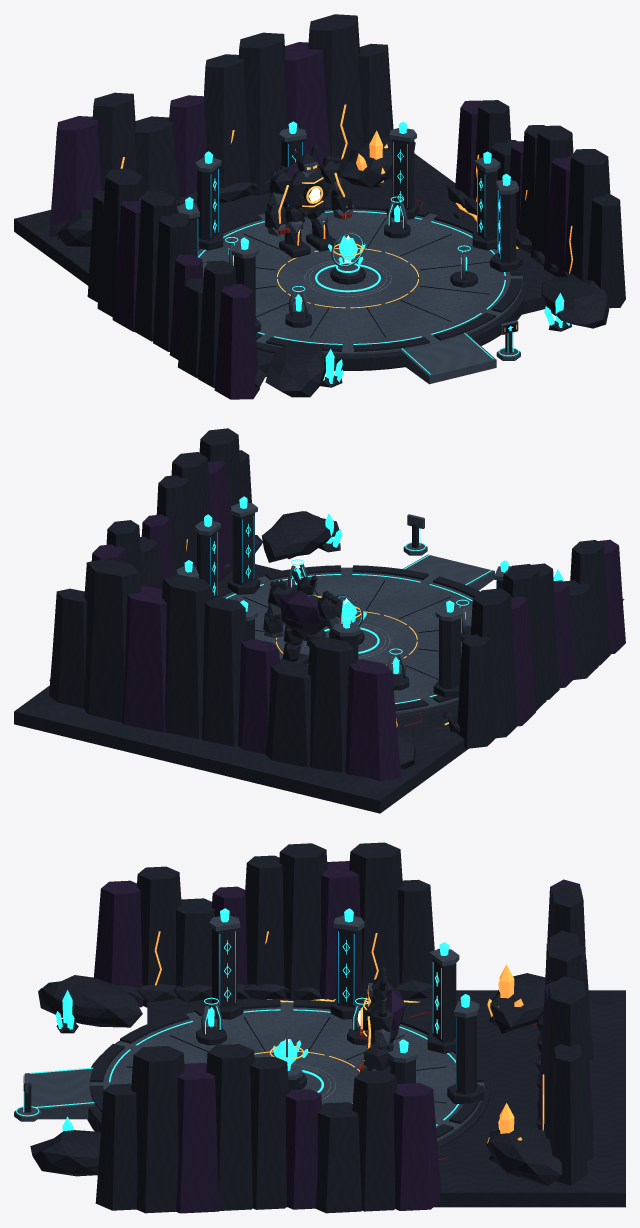
The model's file is 03_Arena_Layout.fbx.
3 views of the same model, one above another, from view 1: azimuth 30°, elevation 25°; view 2: azimuth 150°, elevation 25°; view 3: azimuth 270°, elevation 25° (orthographic). The views are drawn at different scales.
Visible parts, largest first — view 1: CanyonWall_12m_Placed.010, ArenaPlatform_Placed, CanyonWall_12m_Placed.008, CanyonWall_12m_Placed.009, VolcanicGround_24m_Placed.003, Boss_StarcoreGuardian_Placed, BasaltRock_B_Placed.008, BasaltRock_B_Placed.010, AlienPillar_Placed.001, AlienPillar_Placed.003, AlienPillar_Placed, AlienPillar_Placed.006 (+12 smaller); view 2: CanyonWall_12m_Placed.010, CanyonWall_12m_Placed.008, ArenaPlatform_Placed, VolcanicGround_24m_Placed.003, CanyonWall_12m_Placed.009, Boss_StarcoreGuardian_Placed, BasaltRock_B_Placed.010, AlienPillar_Placed.006, AlienPillar_Placed.004, AlienPillar_Placed, MissionBeacon_Placed.006, AlienPillar_Placed.003 (+3 smaller); view 3: CanyonWall_12m_Placed.009, CanyonWall_12m_Placed.008, VolcanicGround_24m_Placed.003, ArenaPlatform_Placed, CanyonWall_12m_Placed.010, BasaltRock_B_Placed.008, Boss_StarcoreGuardian_Placed, BasaltRock_B_Placed.011, AlienPillar_Placed.005, AlienPillar_Placed.004, AlienPillar_Placed.003, BasaltRock_B_Placed.010 (+8 smaller).
Boxes of the visible parts, x1,y1,x2,y2 form: CanyonWall_12m_Placed.010: (49, 14, 393, 239); ArenaPlatform_Placed: (198, 202, 528, 384); CanyonWall_12m_Placed.008: (87, 168, 266, 399); CanyonWall_12m_Placed.009: (447, 100, 625, 308); VolcanicGround_24m_Placed.003: (14, 153, 556, 377); Boss_StarcoreGuardian_Placed: (265, 144, 352, 257); BasaltRock_B_Placed.008: (265, 343, 325, 397); BasaltRock_B_Placed.010: (541, 276, 608, 328); AlienPillar_Placed.001: (386, 121, 419, 219); AlienPillar_Placed.003: (195, 151, 223, 250); AlienPillar_Placed: (472, 151, 500, 250); AlienPillar_Placed.006: (490, 173, 522, 272); CanyonWall_12m_Placed.010: (49, 558, 402, 781); CanyonWall_12m_Placed.008: (448, 539, 625, 748); ArenaPlatform_Placed: (218, 554, 494, 718); VolcanicGround_24m_Placed.003: (14, 564, 468, 813); CanyonWall_12m_Placed.009: (91, 428, 262, 588); Boss_StarcoreGuardian_Placed: (263, 570, 342, 664); BasaltRock_B_Placed.010: (262, 511, 339, 562); AlienPillar_Placed.006: (227, 496, 259, 594); AlienPillar_Placed.004: (433, 600, 462, 697); AlienPillar_Placed: (194, 514, 222, 597); MissionBeacon_Placed.006: (403, 514, 427, 555); AlienPillar_Placed.003: (333, 616, 360, 660); CanyonWall_12m_Placed.009: (95, 1044, 441, 1213); CanyonWall_12m_Placed.008: (93, 842, 434, 1007); VolcanicGround_24m_Placed.003: (147, 990, 625, 1207); ArenaPlatform_Placed: (28, 999, 490, 1148); CanyonWall_12m_Placed.010: (535, 879, 593, 1185); BasaltRock_B_Placed.008: (38, 975, 142, 1027); Boss_StarcoreGuardian_Placed: (357, 966, 405, 1073); BasaltRock_B_Placed.011: (487, 1125, 562, 1185); AlienPillar_Placed.005: (206, 908, 243, 1019); AlienPillar_Placed.004: (330, 908, 367, 1019); AlienPillar_Placed.003: (427, 942, 459, 1053); BasaltRock_B_Placed.010: (30, 1130, 100, 1176).
Size of the model in its own units: 2687 by 3069 by 982.
1 material, 1 textured.
